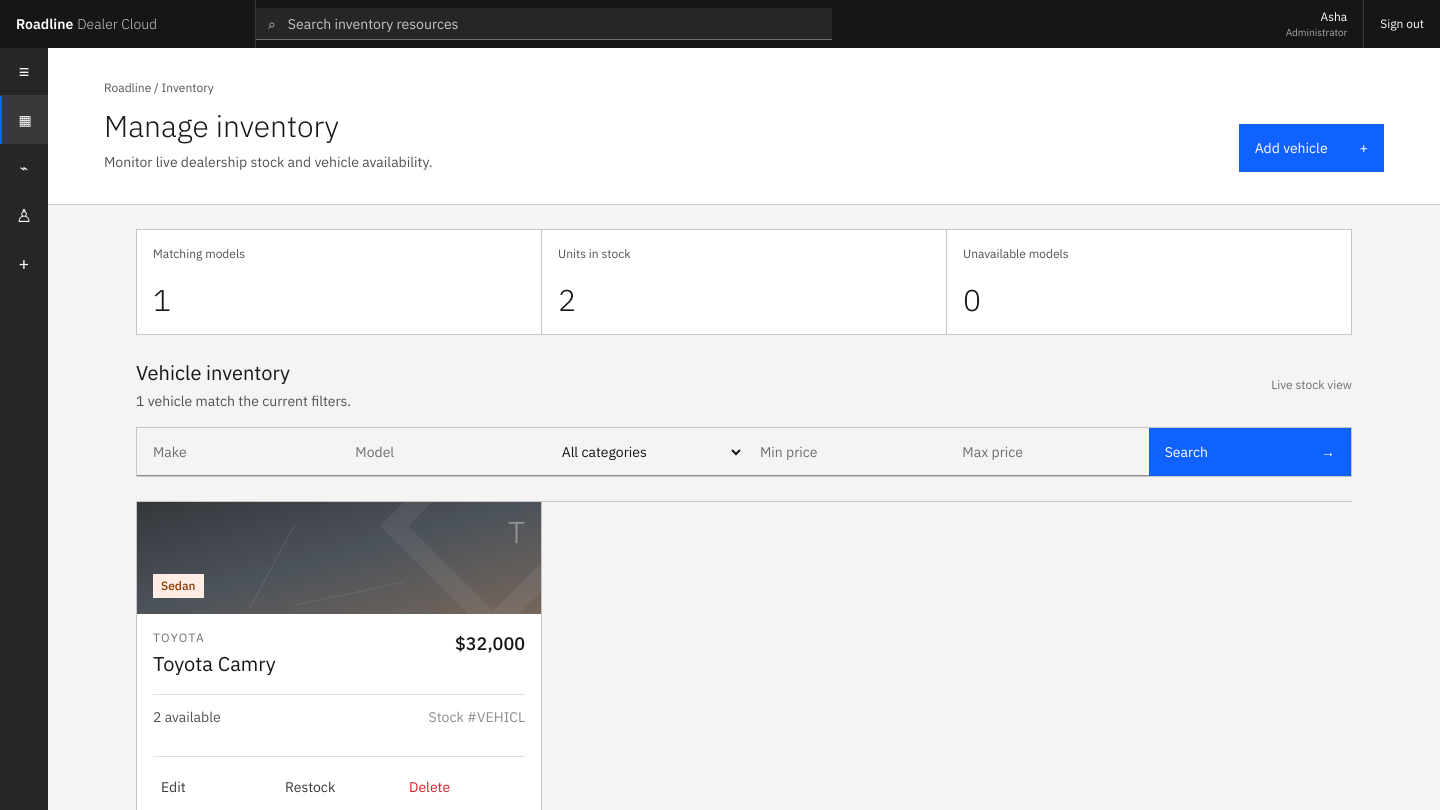
shows inventory management controls to an administrator
Expected: the heading "Manage inventory" is shown, [104,106,339,145]
What coordinates should you click on to do the following:
click the button "Add vehicle +"
I would click on:
 (1311, 148)
Its box is [1239,124,1384,172].
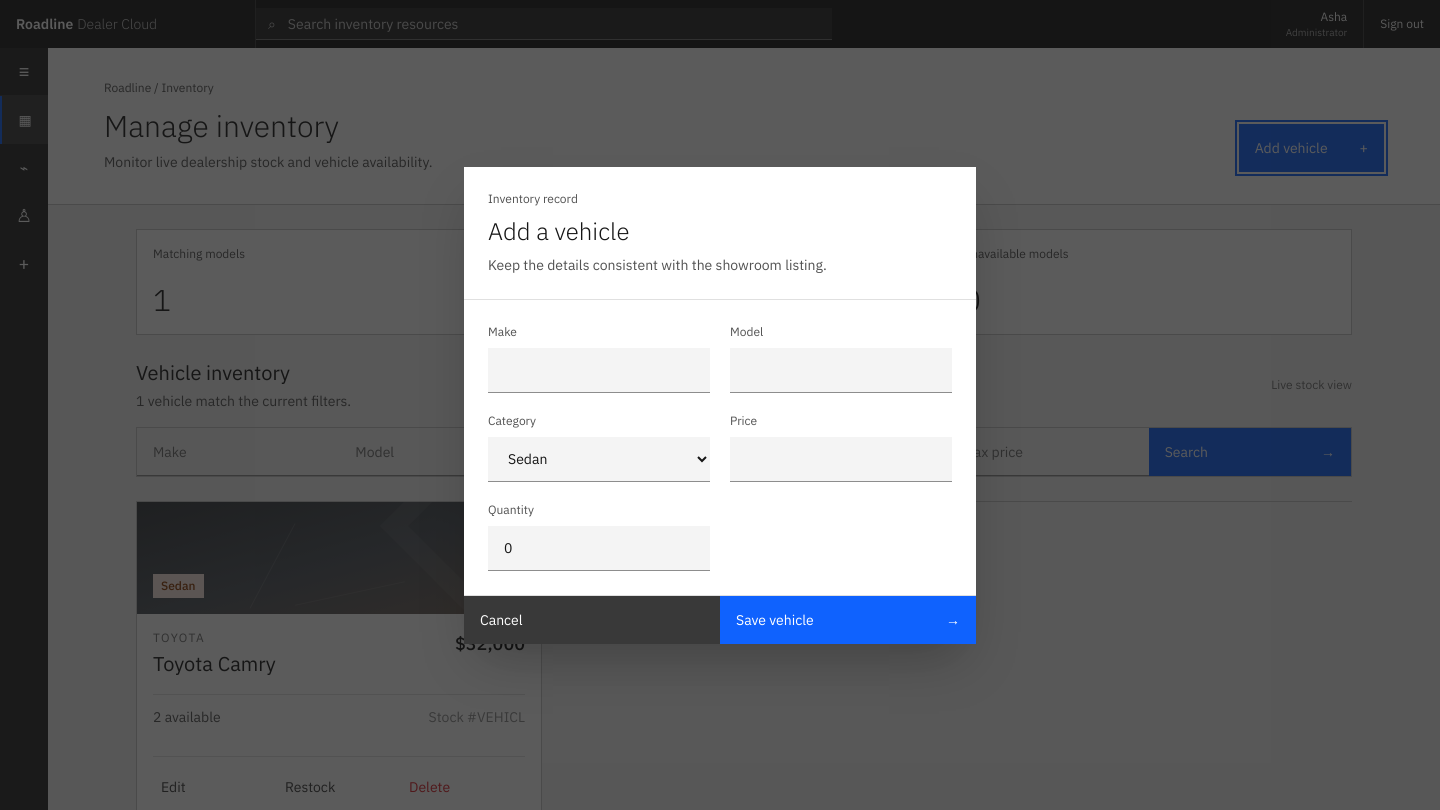
Result: the dialog is shown
Result: the heading "Add a vehicle" is shown at [488,214,630,246]
